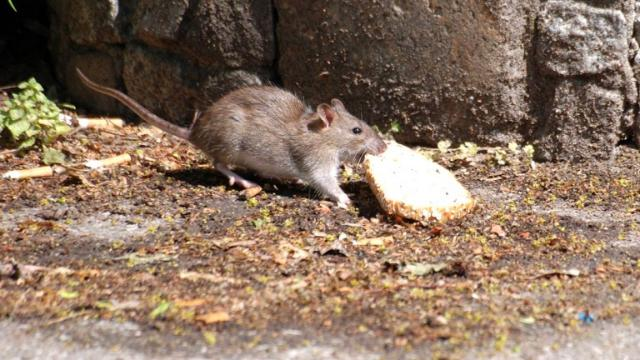rat: (66, 51, 388, 223)
